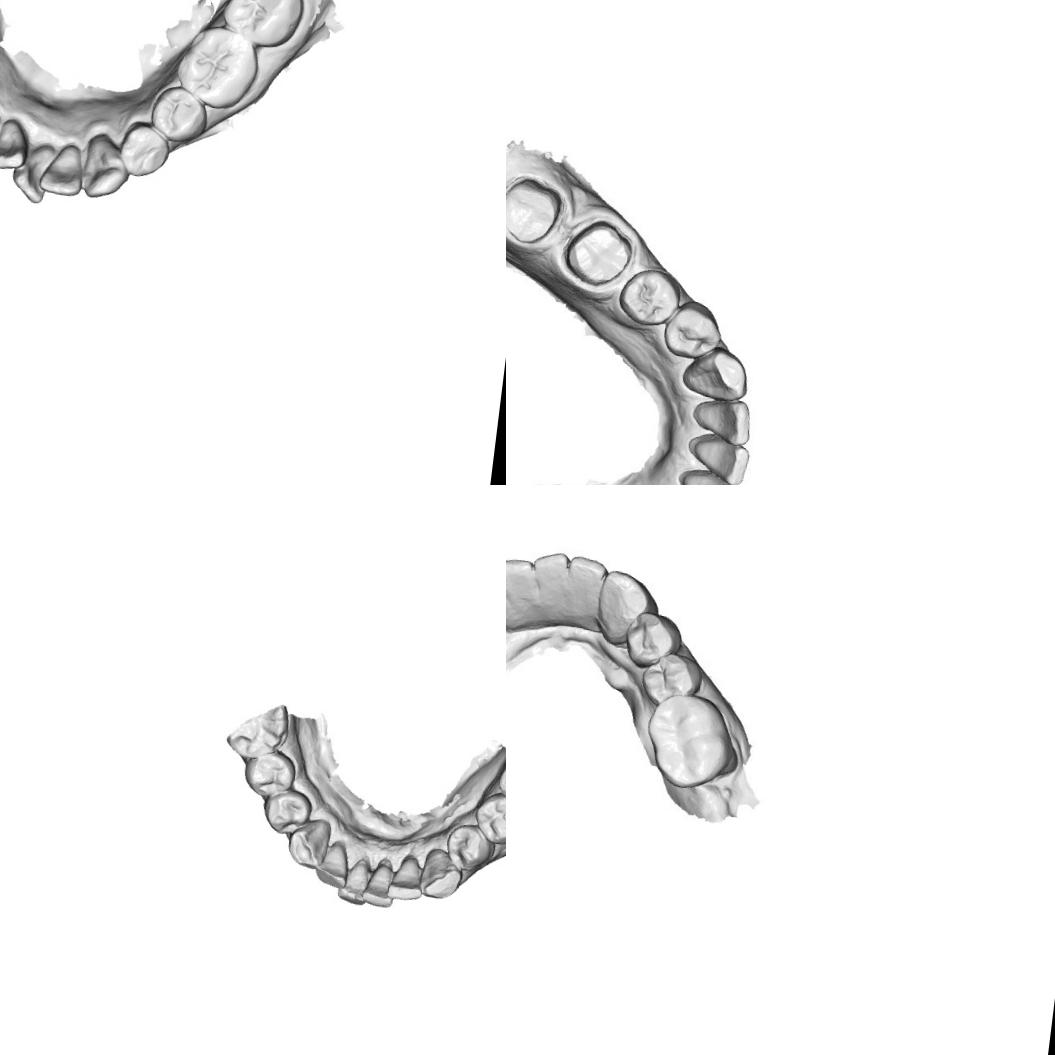canine: (677, 342, 754, 410), (596, 566, 654, 640), (78, 130, 134, 202), (416, 845, 466, 902), (284, 814, 334, 871)
crown: (558, 214, 638, 292), (506, 171, 569, 250)
incisor: (686, 392, 757, 450), (678, 432, 751, 485), (559, 555, 608, 621), (37, 139, 90, 198), (8, 145, 55, 206), (531, 550, 575, 608), (506, 555, 544, 614), (312, 838, 352, 890), (360, 856, 398, 910), (385, 854, 426, 904), (336, 854, 372, 906), (0, 116, 32, 172), (673, 469, 741, 485)
molar: (640, 692, 745, 796), (170, 20, 263, 114), (216, 0, 308, 54), (224, 698, 292, 765)
premolar: (145, 82, 212, 147), (112, 116, 174, 182), (618, 268, 680, 328), (639, 648, 704, 705), (663, 303, 721, 362), (240, 746, 298, 800), (442, 820, 498, 875), (259, 786, 314, 838), (623, 611, 676, 661), (471, 788, 506, 847)
